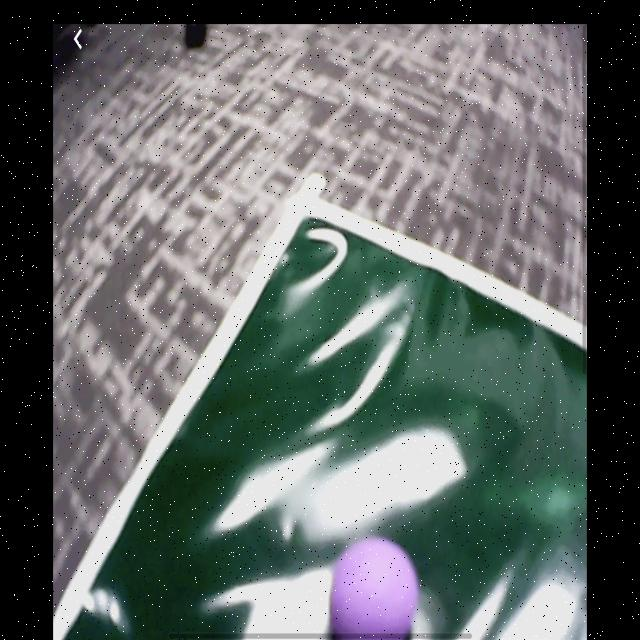ball: (331, 536, 420, 640)
